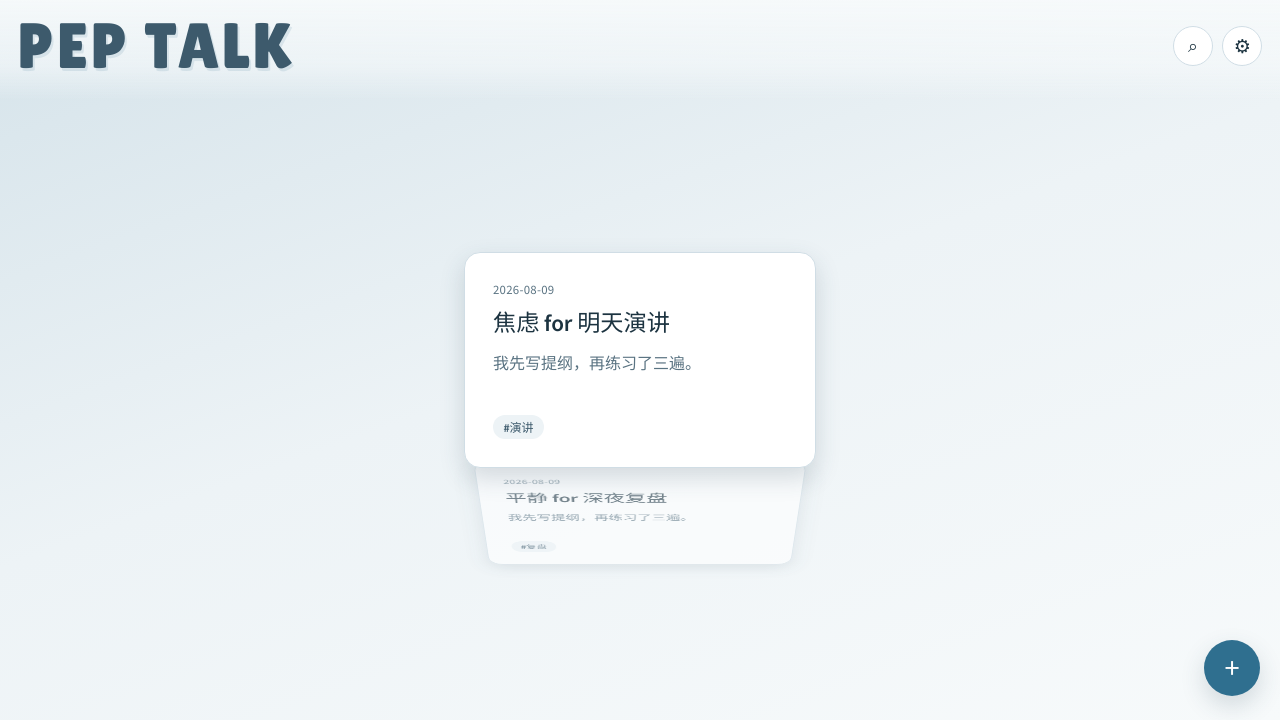
HomePage › filters the wheel down to matching cases for a keyword
The image size is (1280, 720).
Expected: the heading "焦虑 for 明天演讲" is shown, [493,308,670,339]
Click the button named "展开搜索": point(1193, 46) [1173,26,1213,66]
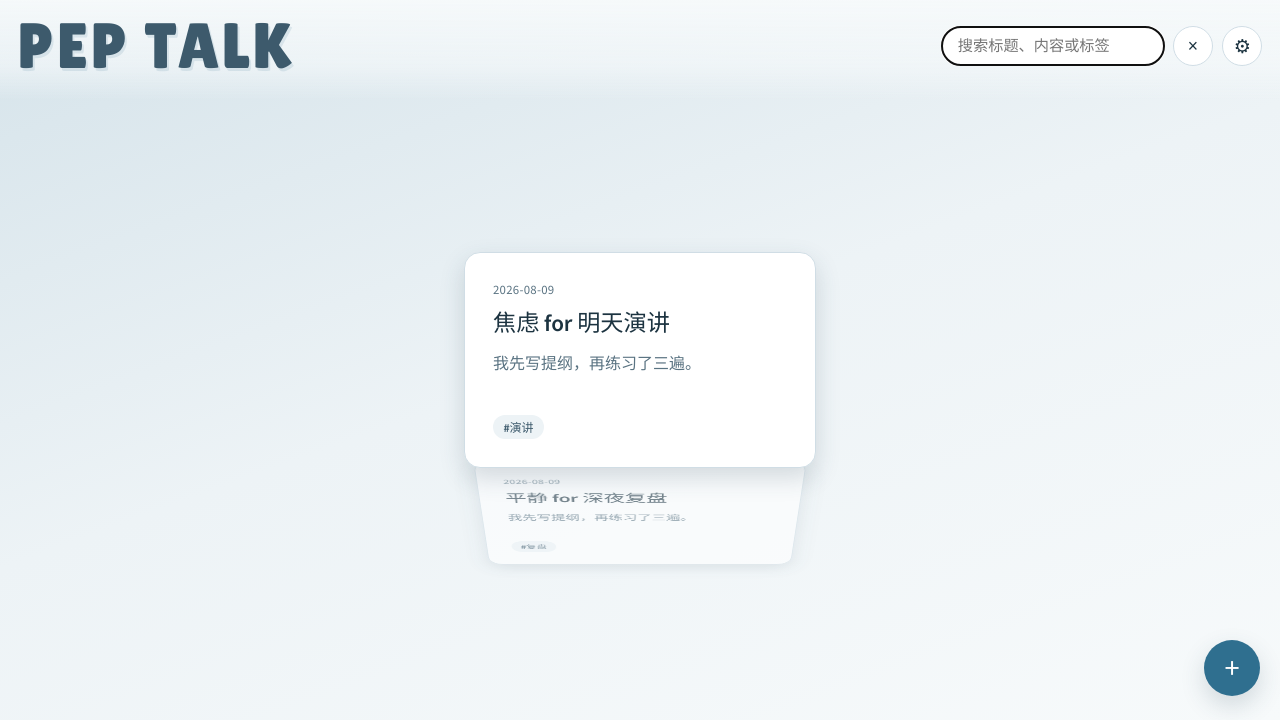
In the field named "搜索案例": point(1053, 46) [941,26,1165,66], type "复盘"
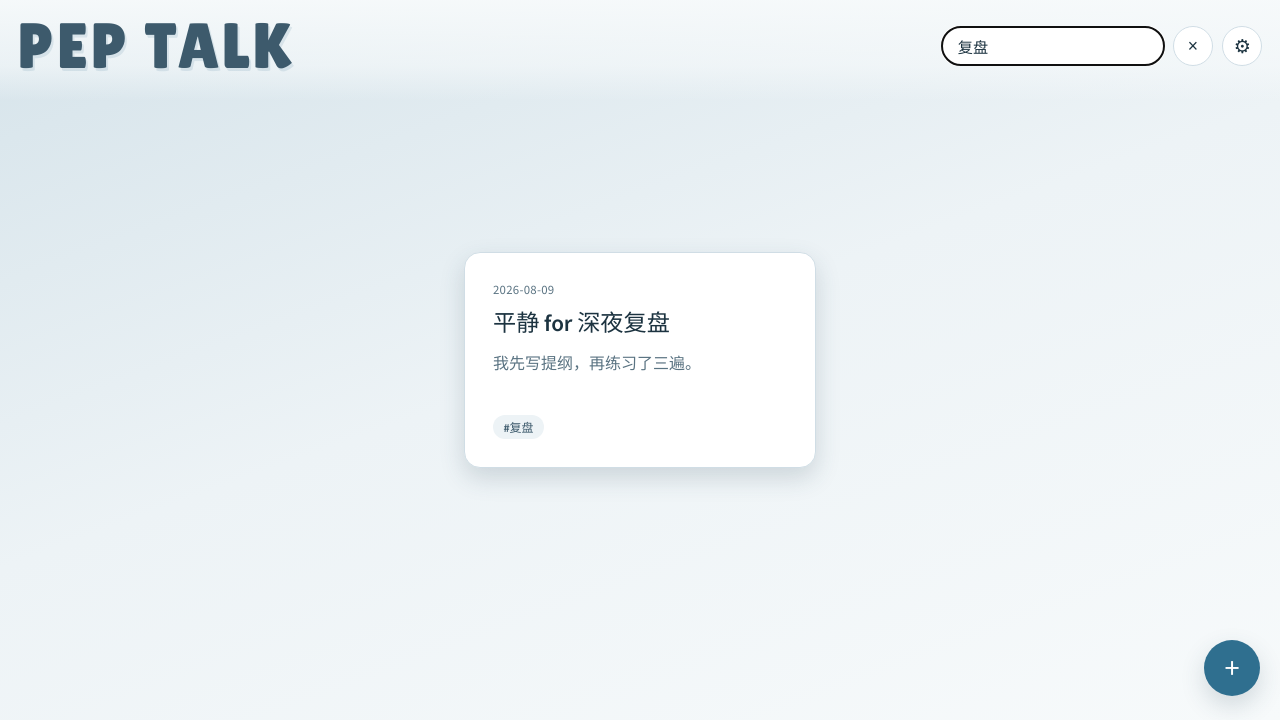
Expected: the heading "平静 for 深夜复盘" is shown, [493,308,670,339]
Result: the button "焦虑 for 明天演讲" is gone
